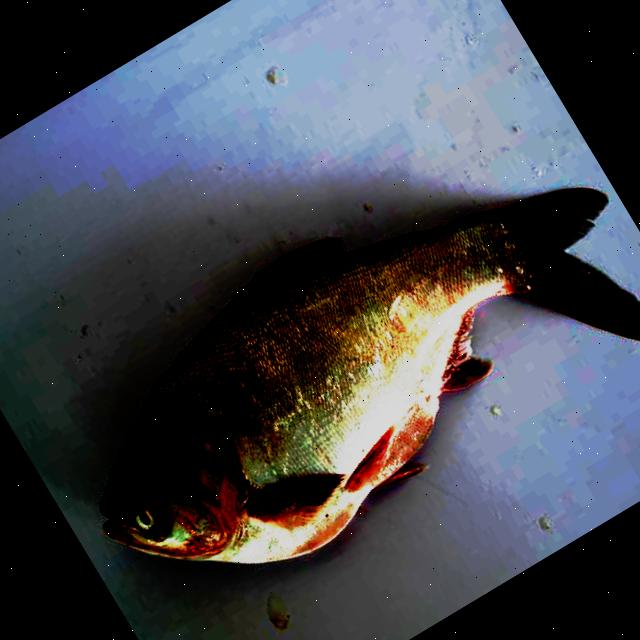Healthy Fish: (100, 189, 640, 563)
